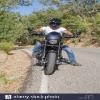motorcycles: (34, 33, 67, 74)
